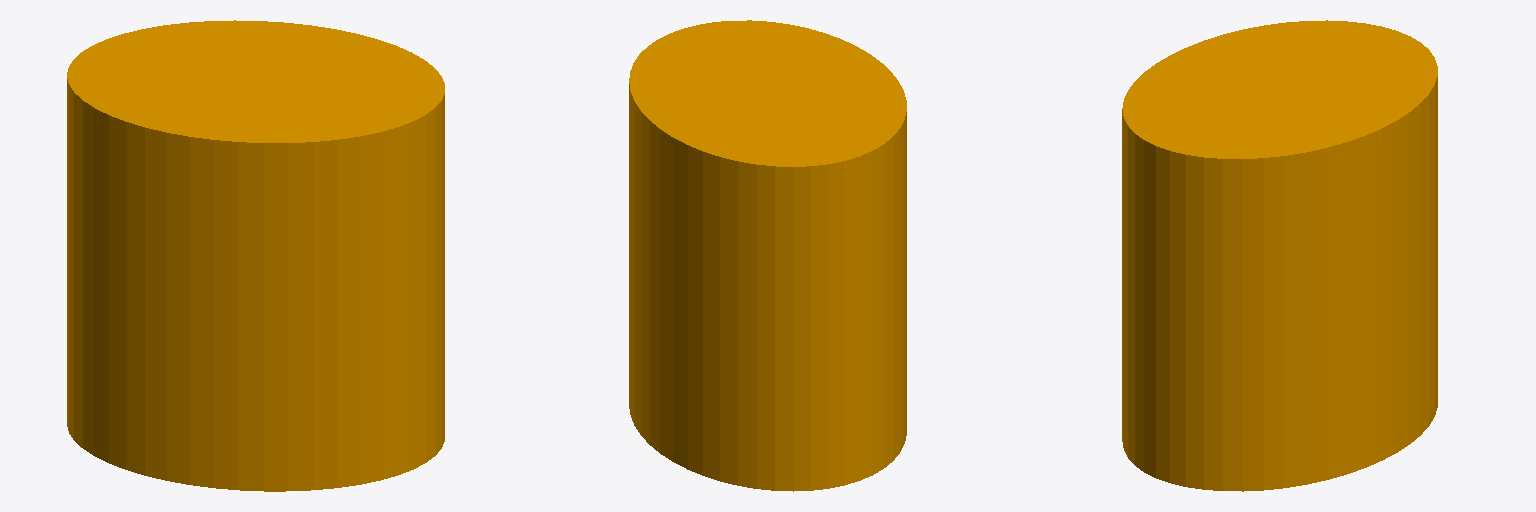
URDF robot description (object):
<?xml version="1.0"?>
<robot name="object">
  <link name="object">
    <visual>
      <origin xyz="0 0 0"/>
      <geometry>
        <mesh filename="meshes/generated/col_007.obj" scale="0.03 0.03 0.03"/>
      </geometry>
    </visual>
    <collision>
      <origin xyz="0 0 0"/>
      <geometry>
        <mesh filename="meshes/generated/col_007.obj" scale="0.03 0.03 0.03"/>
      </geometry>
    </collision>
    <inertial>
      <density value="1000.0"/>
    </inertial>
  </link>
</robot>

--- Facts derived from the render (not from the file) ---
The picture shows the robot from 3 angles, left to right: view 1: azimuth 30°, elevation 25°; view 2: azimuth 150°, elevation 25°; view 3: azimuth 270°, elevation 25°; orthographic projection.
Model object with 1 links and 0 joints (none), rooted at object, posed all joints at 0.
Visible links, largest first — view 1: object; view 2: object; view 3: object.
Link boxes in pixels (bbox=[...]): object: bbox=[67, 20, 444, 491]; object: bbox=[629, 20, 906, 491]; object: bbox=[1122, 20, 1437, 491].
Bounding box of the posed robot: 0.0537 × 0.0516 × 0.06 m (x, y, z).
1 mesh visuals loaded from 1 distinct referenced files (1 OBJ).
